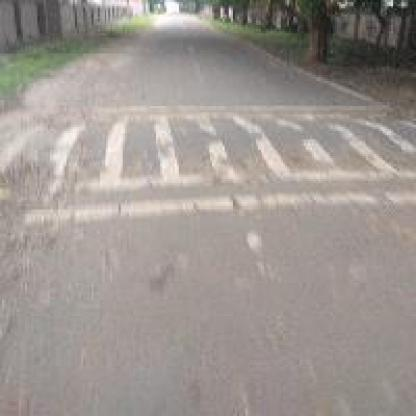Speed Bump: (0, 104, 414, 233)
